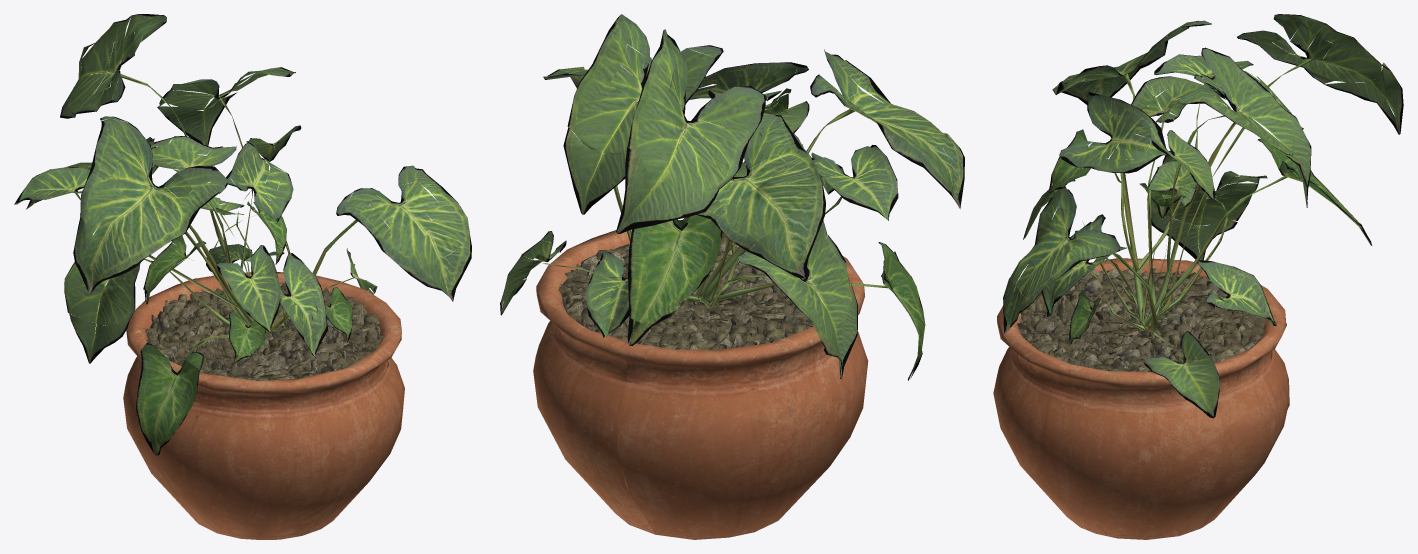
File: potted_plant_02.gltf
3 views of the same model, side by side, from view 1: azimuth 30°, elevation 25°; view 2: azimuth 150°, elevation 25°; view 3: azimuth 270°, elevation 25° (orthographic). The views are drawn at different scales.
Parts seen in each view (by area): view 1: potted_plant_02_leaves, potted_plant_02_pot, potted_plant_02_dirt; view 2: potted_plant_02_leaves, potted_plant_02_pot, potted_plant_02_dirt; view 3: potted_plant_02_leaves, potted_plant_02_pot, potted_plant_02_dirt.
Part boxes in pixels (x1=…): potted_plant_02_leaves: x1=14, y1=14, x2=471, y2=455; potted_plant_02_pot: x1=123, y1=272, x2=404, y2=539; potted_plant_02_dirt: x1=142, y1=282, x2=383, y2=380; potted_plant_02_leaves: x1=500, y1=14, x2=964, y2=380; potted_plant_02_pot: x1=533, y1=229, x2=868, y2=539; potted_plant_02_dirt: x1=558, y1=235, x2=818, y2=349; potted_plant_02_leaves: x1=1003, y1=14, x2=1403, y2=418; potted_plant_02_pot: x1=993, y1=258, x2=1289, y2=539; potted_plant_02_dirt: x1=1017, y1=268, x2=1268, y2=371.
Bounding box in the file's own units: 0.7008 × 0.8423 × 0.6581.
2 materials, 2 textured.
